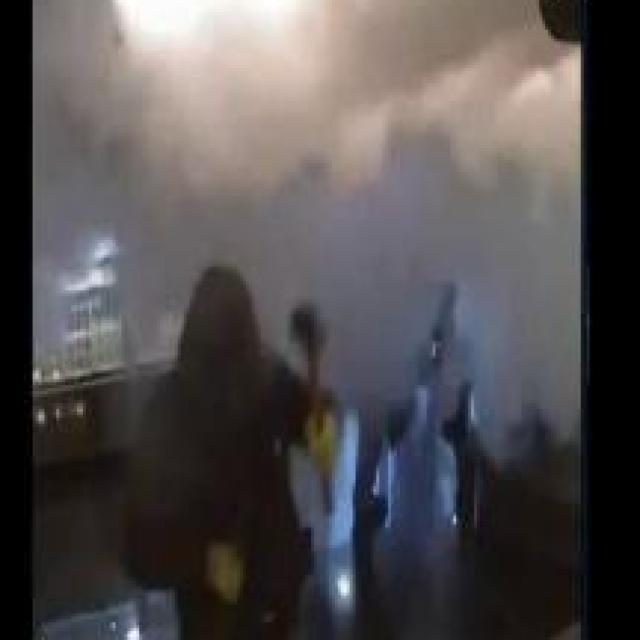fire: (36, 0, 581, 441)
